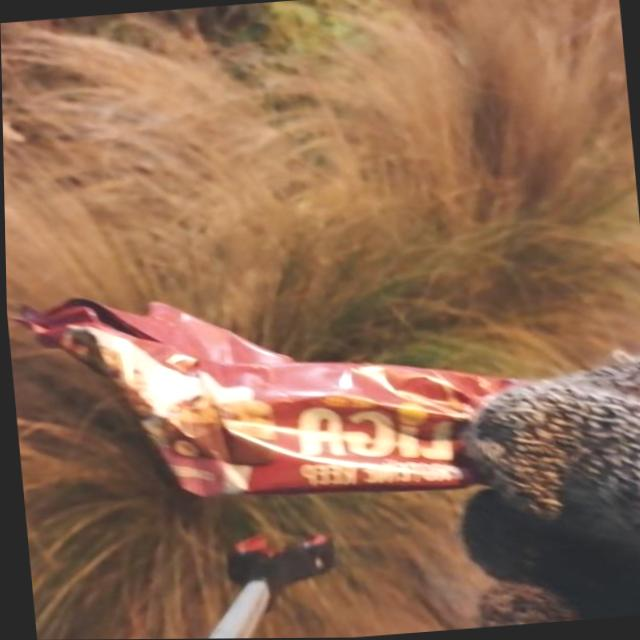Plastic: (5, 256, 557, 524)
